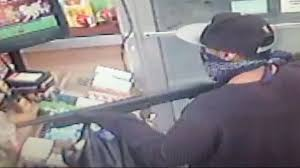rifle: (17, 75, 219, 134)
